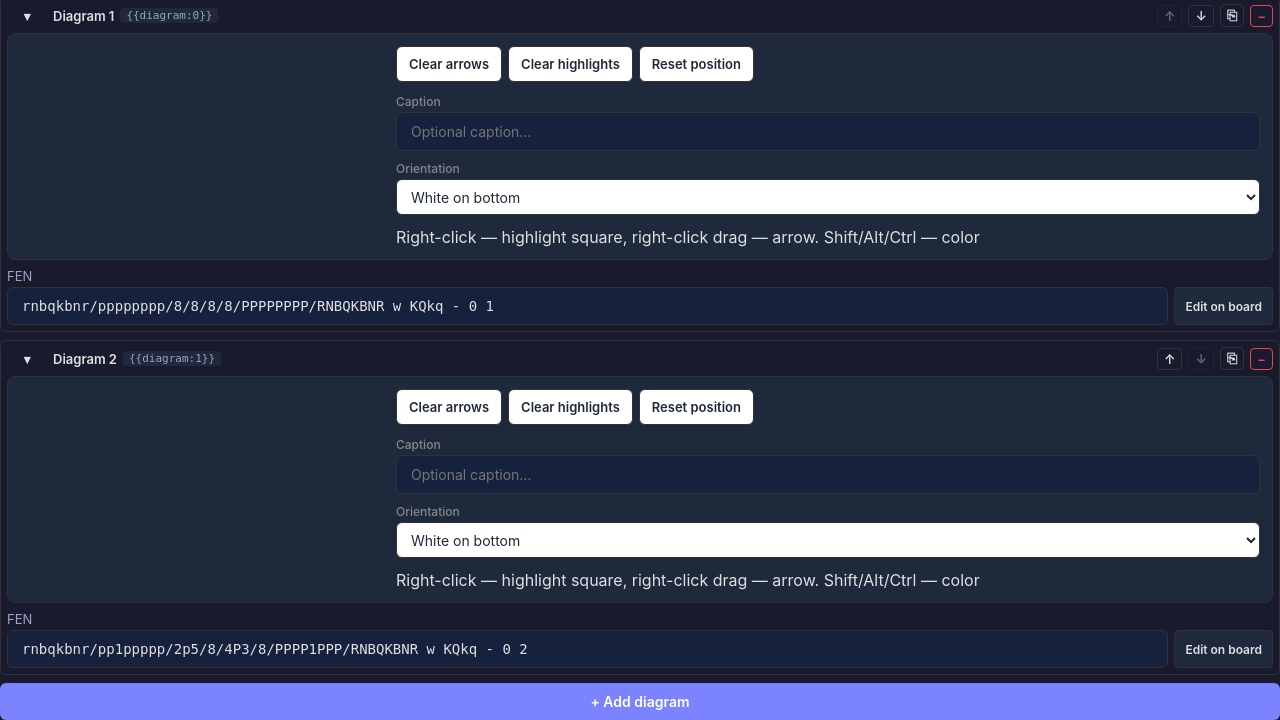
Test: <TextFields> board editor › клик по «Edit on board» открывает SetPositionModal с FEN текущей диаграммы
(page scrolled)
Click the button with test id "editor-diagram-edit-board-1": (1224, 649) [1174,630,1273,668]
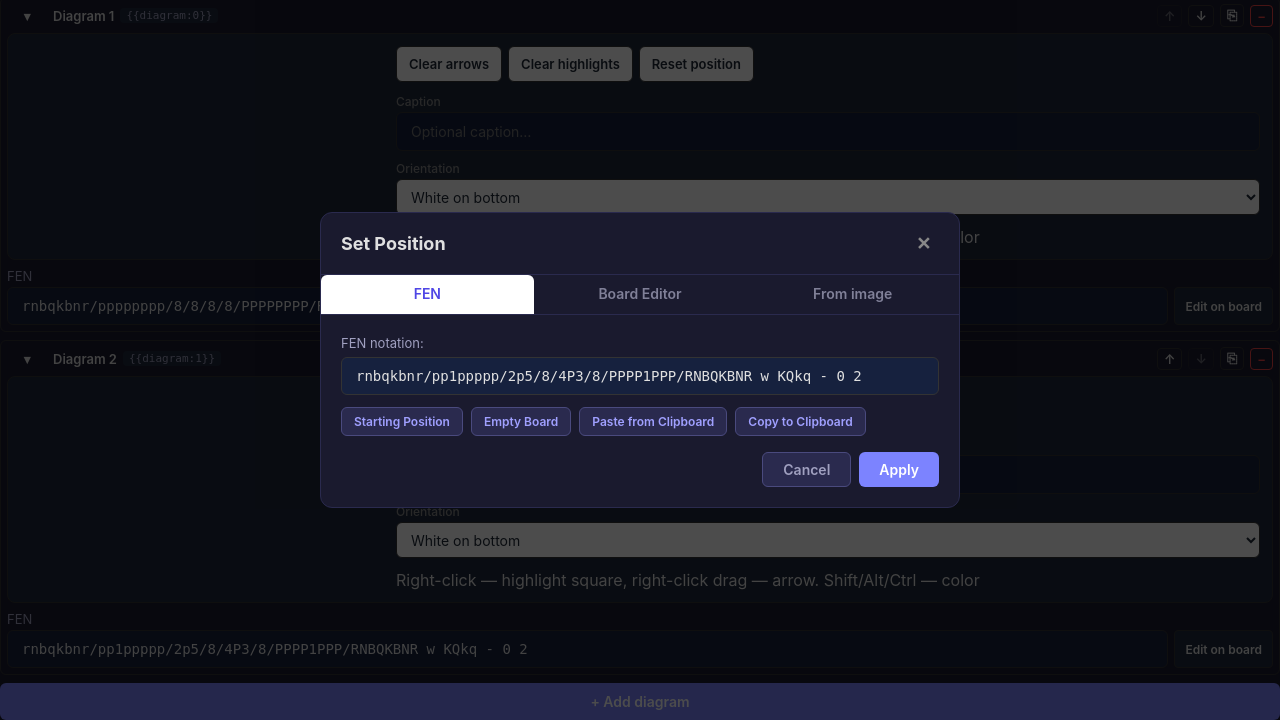
Expected: the element with class "set-position-modal" is shown, [320,212,960,508]
Expected: the field showing "rnbqkbnr/pp1ppppp/2p5/8/4P3/8/PPPP1PPP/RNBQKBNR w KQkq - 0 2" is shown, [341,357,939,395]
